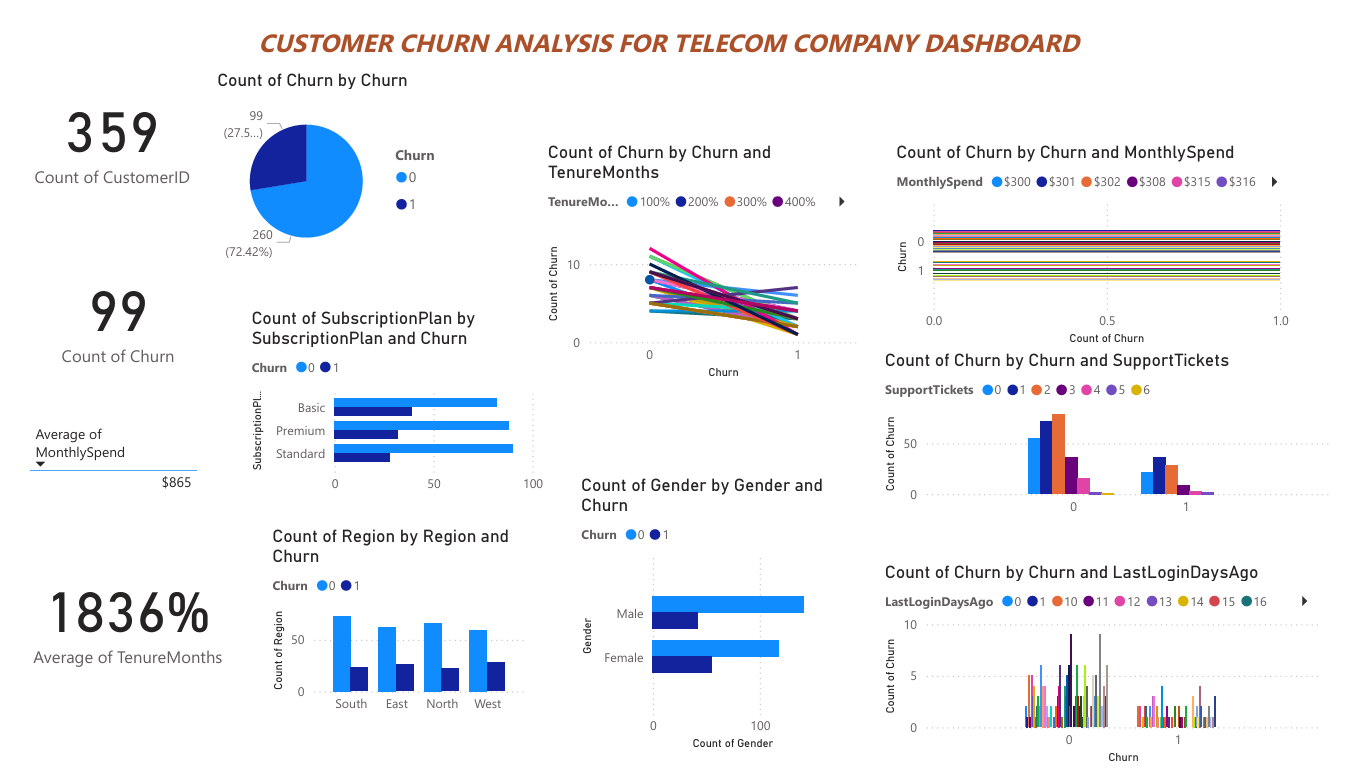

This screenshot's page, from the dashboard's own definition file:
{"tool":"powerbi","page":{"name":"Page 1","canvas":[1280,720],"ordinal":0},"visuals":[{"type":"card","fields":{"Values":["CountNonNull(Details.CustomerID)"]},"box":[0,47.1,170,130],"z":0},{"type":"card","fields":{"Values":["CountNonNull(Details.Churn)"]},"box":[0,197.1,181.4,172.9],"z":1000},{"type":"tableEx","fields":{"Values":["Details.MonthlySpend"]},"box":[0,382.9,181.4,162.9],"z":2000},{"type":"card","fields":{"Values":["Avg(Details.TenureMonths)"]},"box":[0,485.7,200,174.3],"z":3000},{"type":"clusteredColumnChart","fields":{"Category":["Details.Region"],"Y":["CountNonNull(Details.Region)"],"Series":["Details.Churn"]},"box":[234.3,485.7,251.4,190],"z":4000},{"type":"clusteredBarChart","fields":{"Category":["Details.SubscriptionPlan"],"Series":["Details.Churn"],"Y":["CountNonNull(Details.SubscriptionPlan)"]},"box":[214.3,275.7,290,188.6],"z":5000},{"type":"clusteredBarChart","fields":{"Category":["Details.Gender"],"Y":["CountNonNull(Details.Gender)"],"Series":["Details.Churn"]},"box":[531.4,437.1,242.9,270],"z":6000},{"type":"pieChart","fields":{"Y":["CountNonNull(Details.Churn)"],"Category":["Details.Churn"]},"box":[181.4,47.1,238.6,197.1],"z":7000},{"type":"lineChart","fields":{"Category":["Details.Churn"],"Series":["Details.TenureMonths"],"Y":["CountNonNull(Details.Churn)"]},"box":[498.6,117.1,307.1,232.9],"z":8000},{"type":"clusteredBarChart","fields":{"Category":["Details.Churn"],"Y":["CountNonNull(Details.Churn)"],"Series":["Details.MonthlySpend"]},"box":[834.3,117.1,387.1,200],"z":9000},{"type":"clusteredColumnChart","fields":{"Category":["Details.Churn"],"Y":["CountNonNull(Details.Churn)"],"Series":["Details.SupportTickets"]},"box":[823.3,316.7,440,168.9],"z":10000},{"type":"clusteredColumnChart","fields":{"Category":["Details.Churn"],"Y":["CountNonNull(Details.Churn)"],"Series":["Details.LastLoginDaysAgo"]},"box":[822.9,520,428.6,200],"z":11000},{"type":"textbox","box":[85.6,0,1068.9,46.7],"z":12000}]}

Visuals, with their boxes in screenshot pixels (x1, y1, x2, y2), scaled from the page's 1280x720 canvas onto the 1371x784 screenshot:
card - CountNonNull(Details.CustomerID): detection(0, 51, 182, 193)
card - CountNonNull(Details.Churn): detection(0, 215, 194, 403)
tableEx - Details.MonthlySpend: detection(0, 417, 194, 594)
card - Avg(Details.TenureMonths): detection(0, 529, 214, 719)
clusteredColumnChart - Details.Region x CountNonNull(Details.Region): detection(251, 529, 520, 736)
clusteredBarChart - Details.SubscriptionPlan x Details.Churn: detection(230, 300, 540, 506)
clusteredBarChart - Details.Gender x CountNonNull(Details.Gender): detection(569, 476, 829, 770)
pieChart - CountNonNull(Details.Churn) x Details.Churn: detection(194, 51, 450, 266)
lineChart - Details.Churn x Details.TenureMonths: detection(534, 128, 863, 381)
clusteredBarChart - Details.Churn x CountNonNull(Details.Churn): detection(894, 128, 1308, 345)
clusteredColumnChart - Details.Churn x CountNonNull(Details.Churn): detection(882, 345, 1353, 529)
clusteredColumnChart - Details.Churn x CountNonNull(Details.Churn): detection(881, 566, 1340, 783)
textbox: detection(92, 0, 1237, 51)
